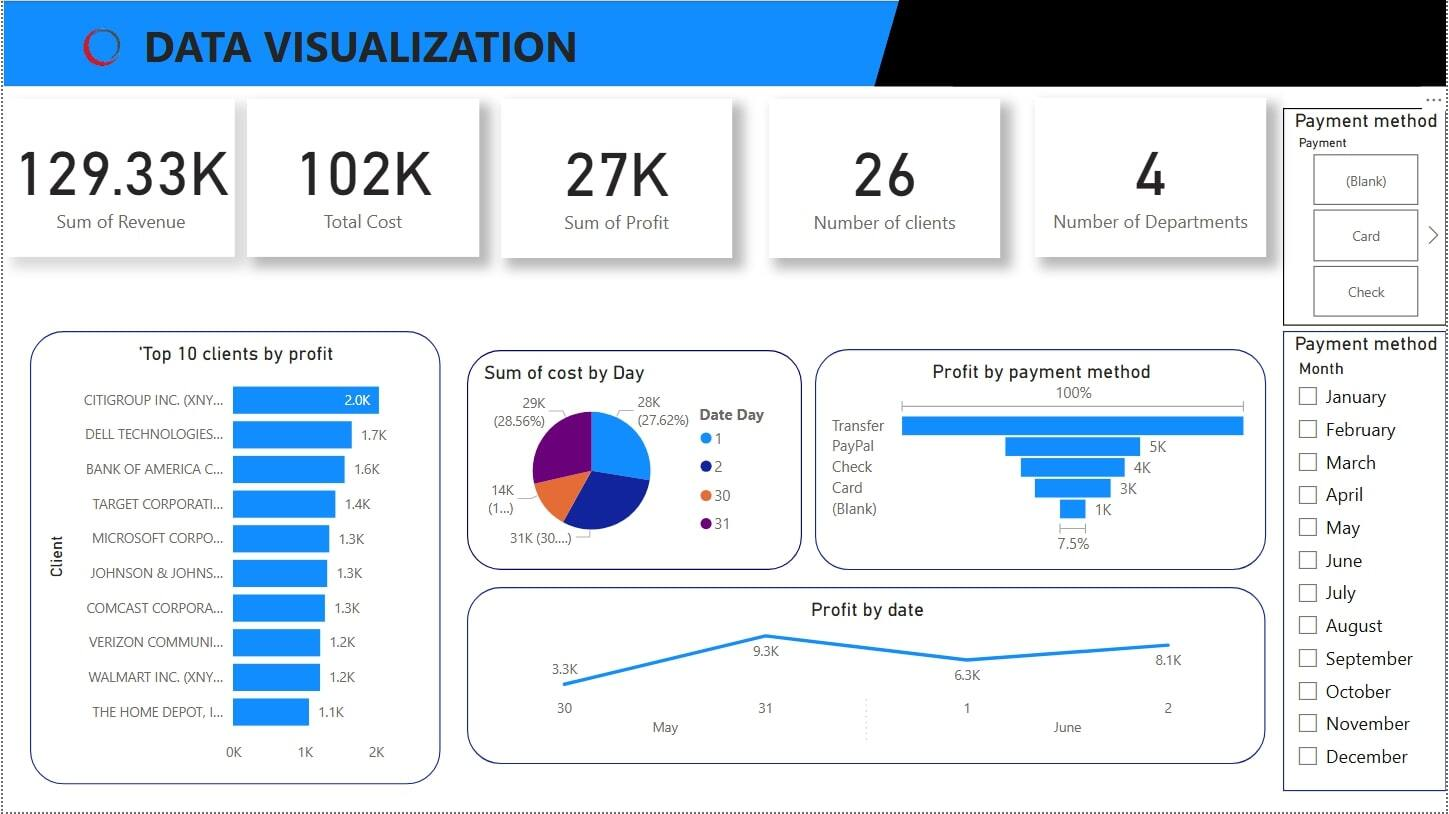

This screenshot's page, from the dashboard's own definition file:
{"tool":"powerbi","page":{"name":"Page 1","canvas":[1280,720],"ordinal":0},"visuals":[{"type":"shape","box":[260.7,4.4,438,77.1],"z":0},{"type":"shape","box":[0,0,118.8,77.1],"z":1000},{"type":"card","fields":{"Values":["Sum(Table 1 (Raw Data).Revenue)"]},"box":[3.5,87.8,202.2,140.1],"z":2000},{"type":"card","fields":{"Values":["Sum(Table 1 (Raw Data).Profit)"]},"box":[441.6,87.8,204.8,141],"z":3000},{"type":"card","fields":{"Values":["Table 1 (Raw Data).Number of clients"]},"box":[679.2,87.8,204.8,141],"z":4000},{"type":"barChart","title":"''Top 10 clients by profit","fields":{"Category":["Table 1 (Raw Data).Client"],"Y":["Sum(Table 1 (Raw Data).Profit)"]},"box":[23.9,293.5,363.5,401.7],"z":5000},{"type":"lineChart","title":"Profit by date","fields":{"Y":["Sum(Table 1 (Raw Data).Profit)"],"Category":["Table 1 (Raw Data).Date.Variation.Date Hierarchy.Month","Table 1 (Raw Data).Date.Variation.Date Hierarchy.Day"]},"box":[411.4,520.5,708.5,156.9],"z":6000},{"type":"funnel","title":"Profit by payment method","fields":{"Category":["Table 1 (Raw Data).Payment"],"Y":["Sum(Table 1 (Raw Data).Profit)"]},"box":[720,309.5,399.9,196],"z":7000},{"type":"slicer","title":"Payment method","fields":{"Values":["Table 1 (Raw Data).Payment"]},"box":[1135,95.8,145.4,193.3],"z":8000},{"type":"slicer","title":"Payment method","fields":{"Values":["Table 1 (Raw Data).Date.Variation.Date Hierarchy.Month"]},"box":[1135,293.5,145.4,407.9],"z":9000},{"type":"card","fields":{"Values":["Table 1 (Raw Data).Number of Departments"]},"box":[915.1,86.9,204.8,141],"z":10000},{"type":"card","fields":{"Values":["Table 1 (Raw Data).Total Cost"]},"box":[216.4,87.8,205.7,140.1],"z":11000},{"type":"shape","box":[0,0,1280.4,77.1],"z":12000},{"type":"shape","box":[772.3,0,508.1,77.1],"z":13000},{"type":"shape","box":[842.4,0,438,77.1],"z":14000},{"type":"textbox","box":[104.6,9.8,425.6,67.4],"z":15000},{"type":"pieChart","fields":{"Y":["Sum(Table 1 (Raw Data).cost)"],"Category":["Table 1 (Raw Data).Date.Variation.Date Hierarchy.Day"]},"box":[411.4,310.3,297,195.1],"z":16000},{"type":"image","box":[10.6,0,153.4,91.3],"z":17000}]}

Visuals, with their boxes in screenshot pixels (x1, y1, x2, y2), scaled from the page's 1280x720 canvas onto the 1449x814 screenshot:
shape: bbox=(295, 5, 791, 92)
shape: bbox=(0, 0, 134, 87)
card - Sum(Table 1 (Raw Data).Revenue): bbox=(4, 99, 233, 258)
card - Sum(Table 1 (Raw Data).Profit): bbox=(500, 99, 732, 259)
card - Table 1 (Raw Data).Number of clients: bbox=(769, 99, 1001, 259)
"''Top 10 clients by profit" barChart: bbox=(27, 332, 439, 786)
"Profit by date" lineChart: bbox=(466, 588, 1268, 766)
"Profit by payment method" funnel: bbox=(815, 350, 1268, 571)
"Payment method" slicer: bbox=(1285, 108, 1448, 327)
"Payment method" slicer: bbox=(1285, 332, 1448, 793)
card - Table 1 (Raw Data).Number of Departments: bbox=(1036, 98, 1268, 258)
card - Table 1 (Raw Data).Total Cost: bbox=(245, 99, 478, 258)
shape: bbox=(0, 0, 1448, 87)
shape: bbox=(874, 0, 1448, 87)
shape: bbox=(954, 0, 1448, 87)
textbox: bbox=(118, 11, 600, 87)
pieChart - Sum(Table 1 (Raw Data).cost) x Table 1 (Raw Data).Date.Variation.Date Hierarchy.Day: bbox=(466, 351, 802, 571)
image: bbox=(12, 0, 186, 103)
